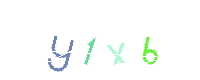1: (60, 0, 140, 80)
6: (87, 0, 167, 80)
X: (70, 0, 150, 80)
Y: (20, 0, 100, 80)
